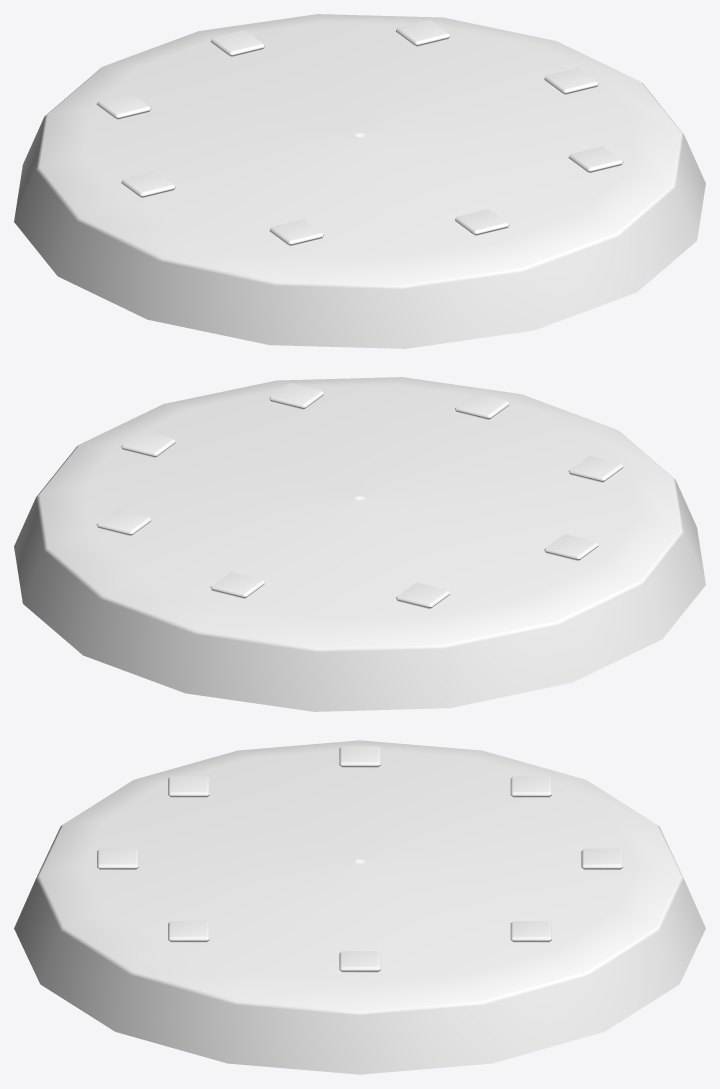
The model's file is entry_stone.glb.
3 renders of one model, top to bottom at view 1: azimuth 30°, elevation 25°; view 2: azimuth 150°, elevation 25°; view 3: azimuth 270°, elevation 25°, orthographic.
Visible parts, largest first — view 1: EntryStone; view 2: EntryStone; view 3: EntryStone.
Part boxes in pixels (x1,y1,x2,y2): EntryStone: (14, 14, 705, 348); EntryStone: (14, 377, 705, 711); EntryStone: (14, 740, 705, 1074).
Size of the model in its own units: 3 by 0.345 by 3.
Materials: 1 (1 with a texture image).
